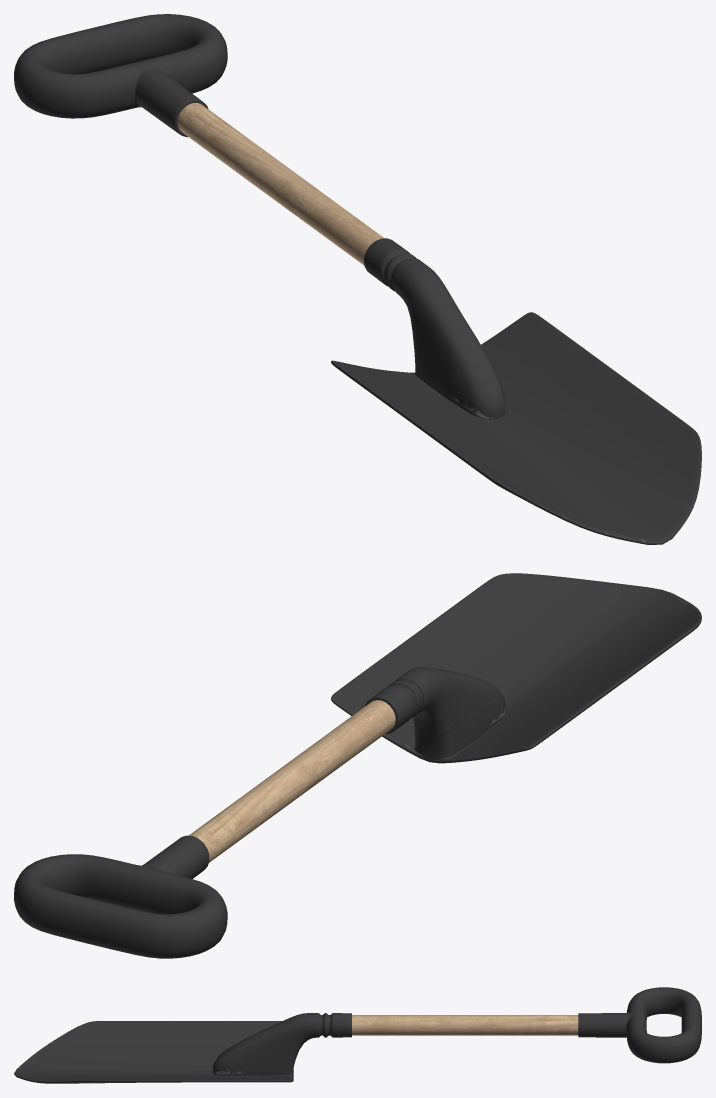
File: Shovel.fbx
The picture shows the model from 3 angles, top to bottom: view 1: azimuth 30°, elevation 25°; view 2: azimuth 150°, elevation 25°; view 3: azimuth 270°, elevation 25°; orthographic projection. The views are drawn at different scales.
Parts seen in each view (by area): view 1: MetalParts, WoodPart; view 2: MetalParts, WoodPart; view 3: MetalParts, WoodPart.
Boxes of the visible parts, x1,y1,x2,y2 form: MetalParts: (14,14,701,544); WoodPart: (177,103,383,265); MetalParts: (14,573,701,958); WoodPart: (189,700,395,862); MetalParts: (14,987,701,1083); WoodPart: (352,1015,578,1035).
Bounding box in the file's own units: 12.88 × 6.29 × 62.8.
1 material, 1 textured.
